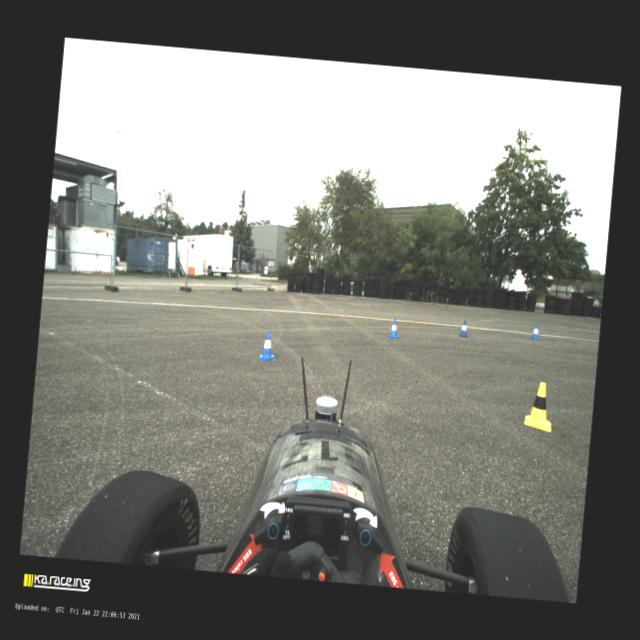blue_cone: (258, 330, 277, 362), (388, 318, 400, 339), (530, 323, 542, 341), (458, 320, 468, 337)
yellow_cone: (523, 380, 555, 432)
